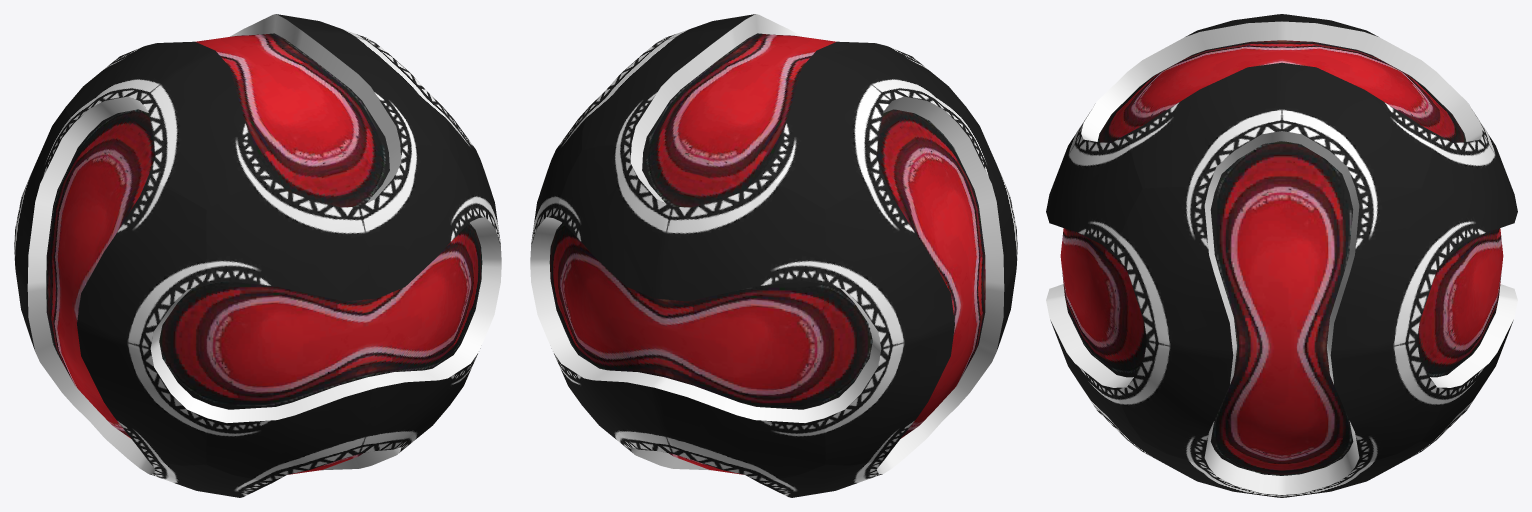
File: ball_windbreaker.glb
3 renders of one model, left to right at view 1: azimuth 30°, elevation 25°; view 2: azimuth 150°, elevation 25°; view 3: azimuth 270°, elevation 25°, orthographic.
Visible parts, largest first — view 1: ball_windbreaker; view 2: ball_windbreaker; view 3: ball_windbreaker.
Boxes of the visible parts, x1,y1,x2,y2 form: ball_windbreaker: (14,14,501,497); ball_windbreaker: (530,14,1017,497); ball_windbreaker: (1046,14,1517,497).
Size of the model in its own units: 0.3379 by 0.3389 by 0.3389.
1 material, 1 textured.
